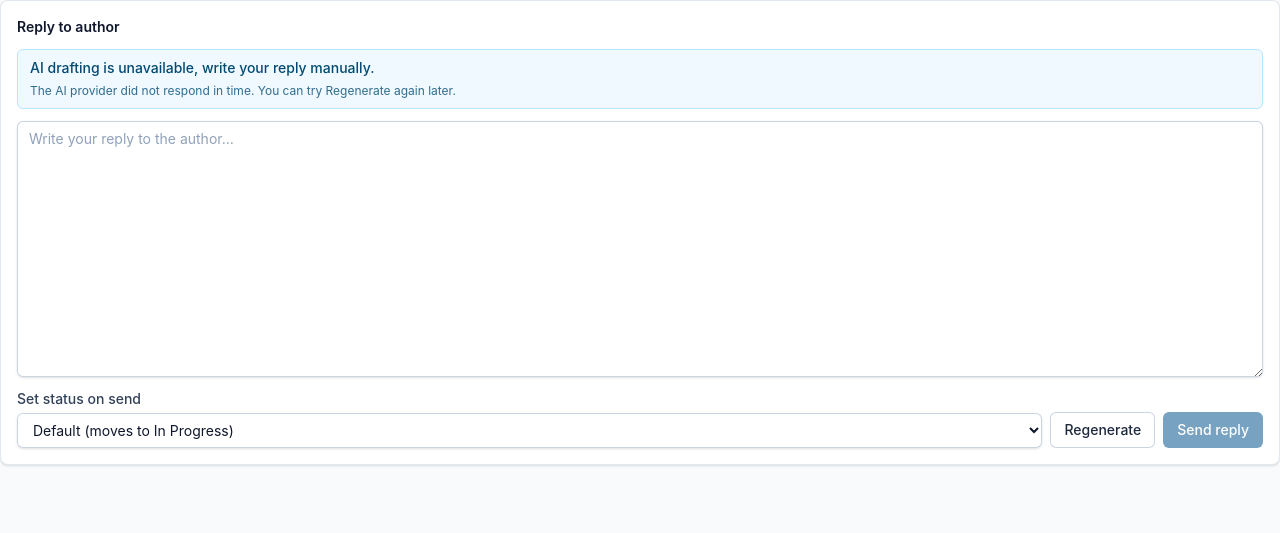
Scenario: DraftReplyPanel › falls back calmly when the AI returns no draft, and still lets the admin write and send
Expected: the text "AI drafting is unavailable, write your reply manually." is shown, x1=30 y1=59 x2=374 y2=76
Expected: the text "did not respond in time" is shown, x1=30 y1=83 x2=254 y2=98
Type "Hi Arjun, I am looking into this personally." into the text box labelled "reply". click: (640, 249)
box: x1=17 y1=121 x2=1263 y2=377
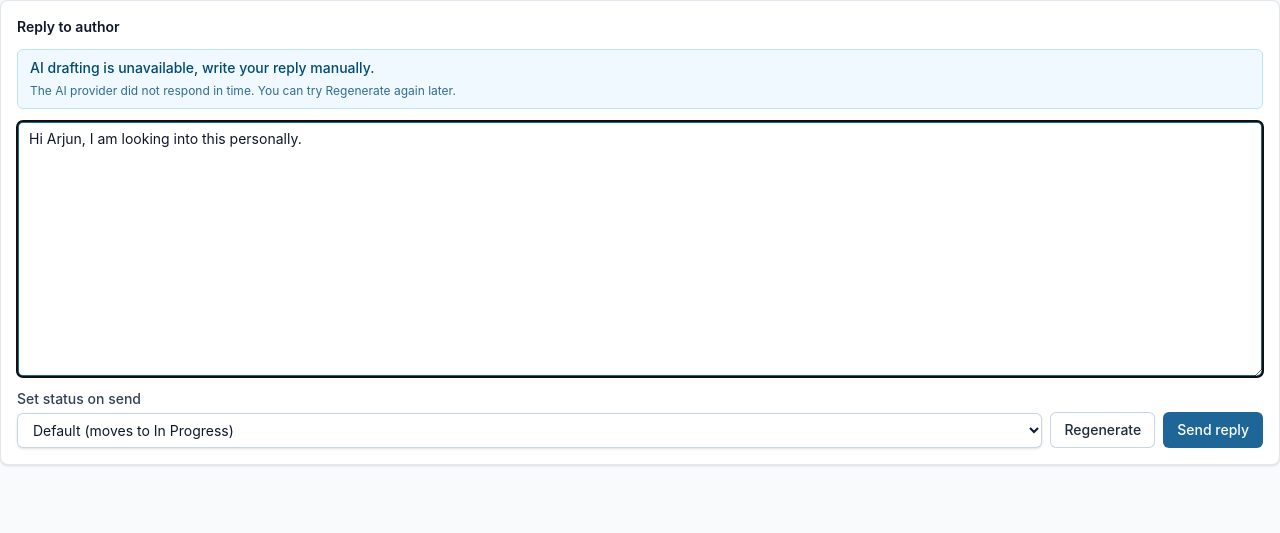
Expected: the dropdown labelled "Set status on send" shows "Default (moves to In Progress)", x1=17 y1=413 x2=1042 y2=448
Click the button "Send reply". click: (1213, 430)
box: x1=1163 y1=412 x2=1263 y2=448
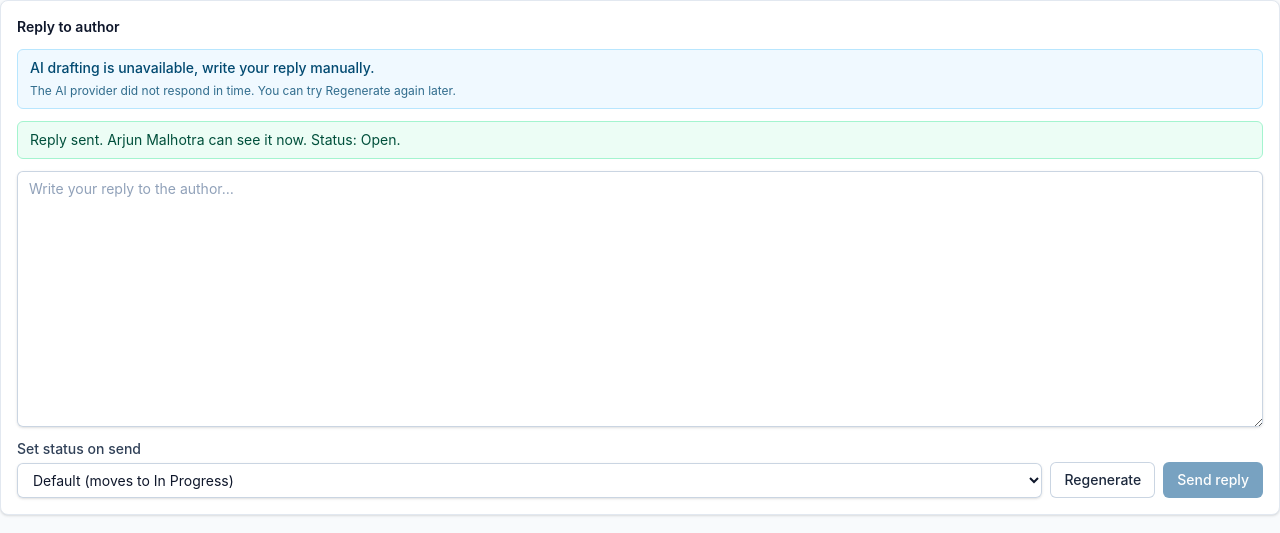
Expected: the text "Reply sent. Arjun Malhotra can see it now. Status: Open." is shown, x1=30 y1=131 x2=400 y2=148
Expected: the text box labelled "reply" is empty, x1=17 y1=171 x2=1263 y2=427
